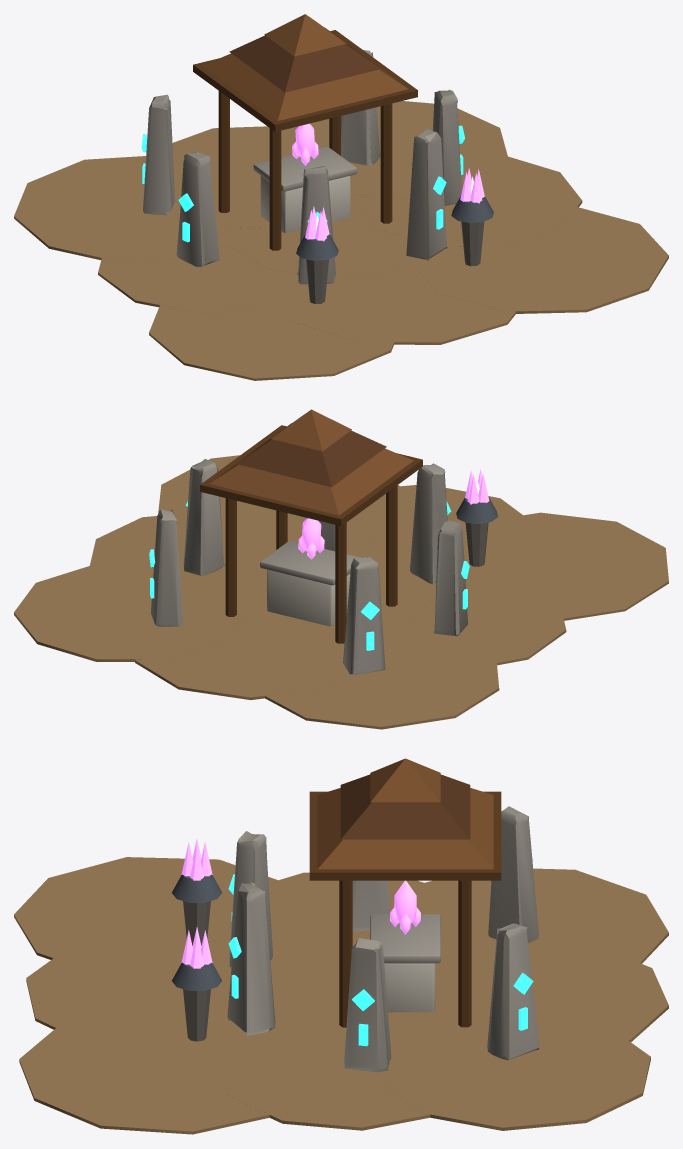
File: budynek_fuzji_poz04.glb
3 renders of one model, top to bottom at view 1: azimuth 30°, elevation 25°; view 2: azimuth 150°, elevation 25°; view 3: azimuth 270°, elevation 25°, orthographic. The views are drawn at different scales.
Visible parts, largest first — view 1: budynek_fuzji_poz04; view 2: budynek_fuzji_poz04; view 3: budynek_fuzji_poz04.
Boxes of the visible parts, <box> form: budynek_fuzji_poz04: <box>14,14,668,380</box>; budynek_fuzji_poz04: <box>14,409,668,729</box>; budynek_fuzji_poz04: <box>14,758,668,1134</box>.
Bounding box in the file's own units: 8.73 × 3.57 × 8.8.
